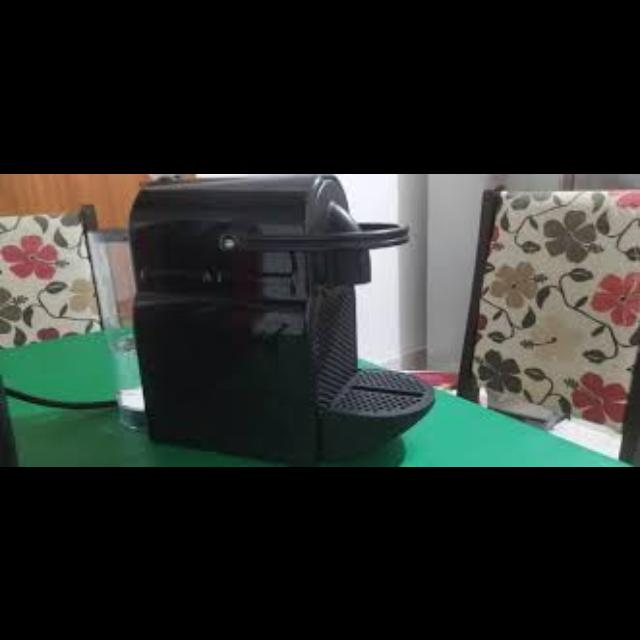Coffee-Machine: (123, 174, 437, 466)
